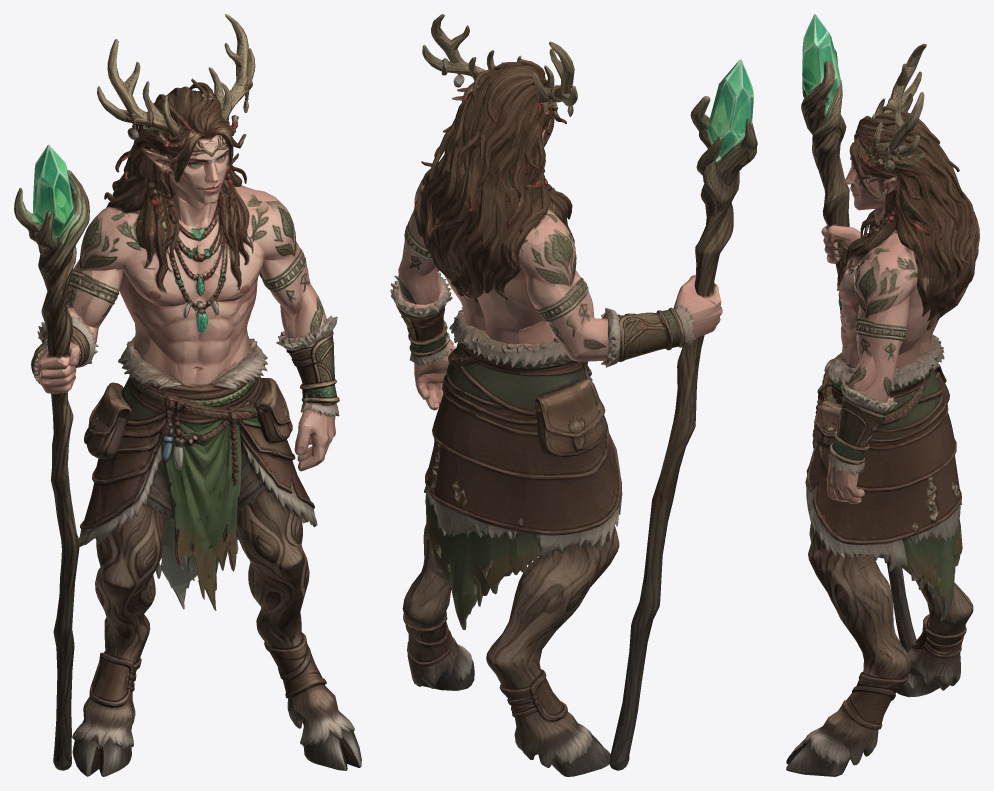
Rendered from genie.glb.
3 views of the same model, side by side, from view 1: azimuth 30°, elevation 25°; view 2: azimuth 150°, elevation 25°; view 3: azimuth 270°, elevation 25° (orthographic). The views are drawn at different scales.
Visible parts, largest first — view 1: output_unwrapped; view 2: output_unwrapped; view 3: output_unwrapped.
Part boxes in pixels (x1,y1,x2,y2): output_unwrapped: (14, 14, 361, 776); output_unwrapped: (390, 14, 757, 776); output_unwrapped: (786, 14, 979, 776).
Bounding box in the file's own units: 0.9436 × 1.9 × 0.5123.
Materials: 1 (1 with a texture image).
